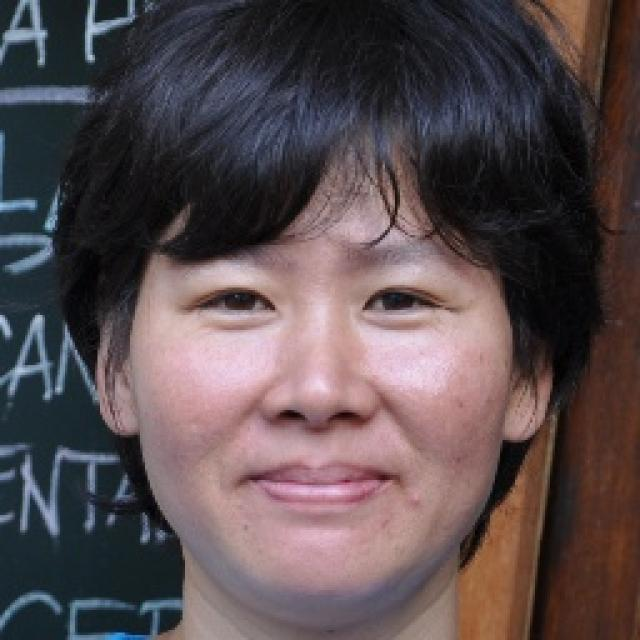earlobe: (94, 310, 146, 436), (503, 322, 555, 444)
